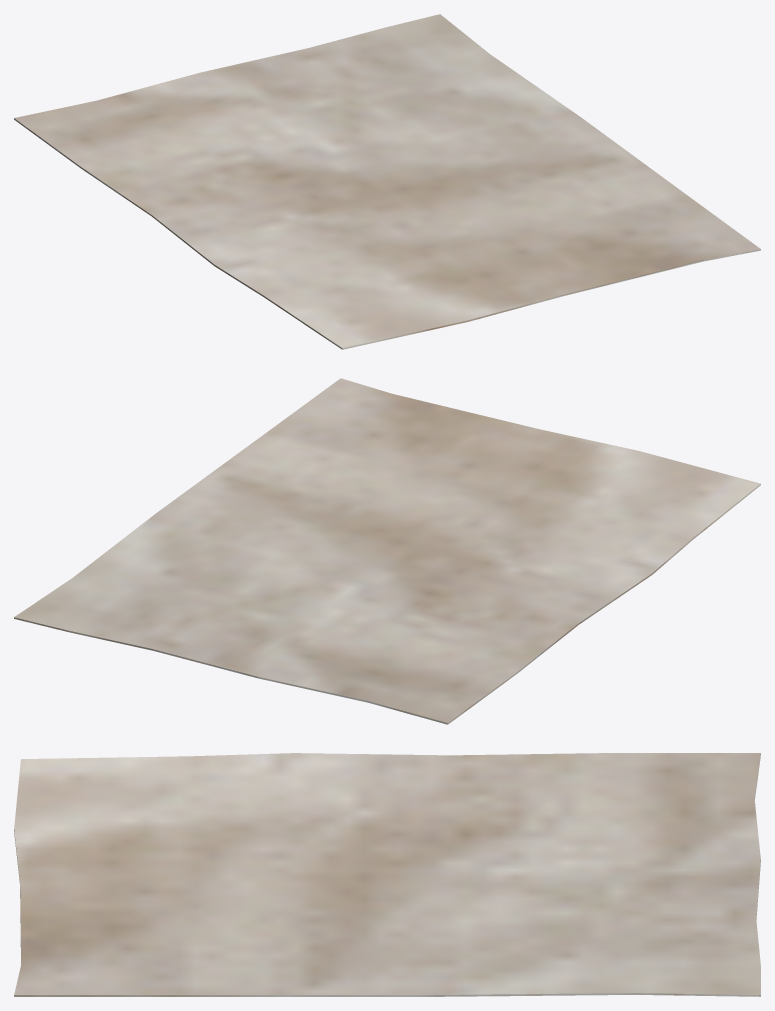
The model's file is MS_Paper_1.fbx.
3 views of the same model, one above another, from view 1: azimuth 30°, elevation 25°; view 2: azimuth 150°, elevation 25°; view 3: azimuth 270°, elevation 25° (orthographic). The views are drawn at different scales.
Visible parts, largest first — view 1: MSH_PaperPage; view 2: MSH_PaperPage; view 3: MSH_PaperPage.
Part boxes in pixels (<box>): MSH_PaperPage: <box>14,14,760,349</box>; MSH_PaperPage: <box>14,378,760,724</box>; MSH_PaperPage: <box>14,753,760,996</box>.
Bounding box in the file's own units: 13.71 × 0.0532 × 17.88.
